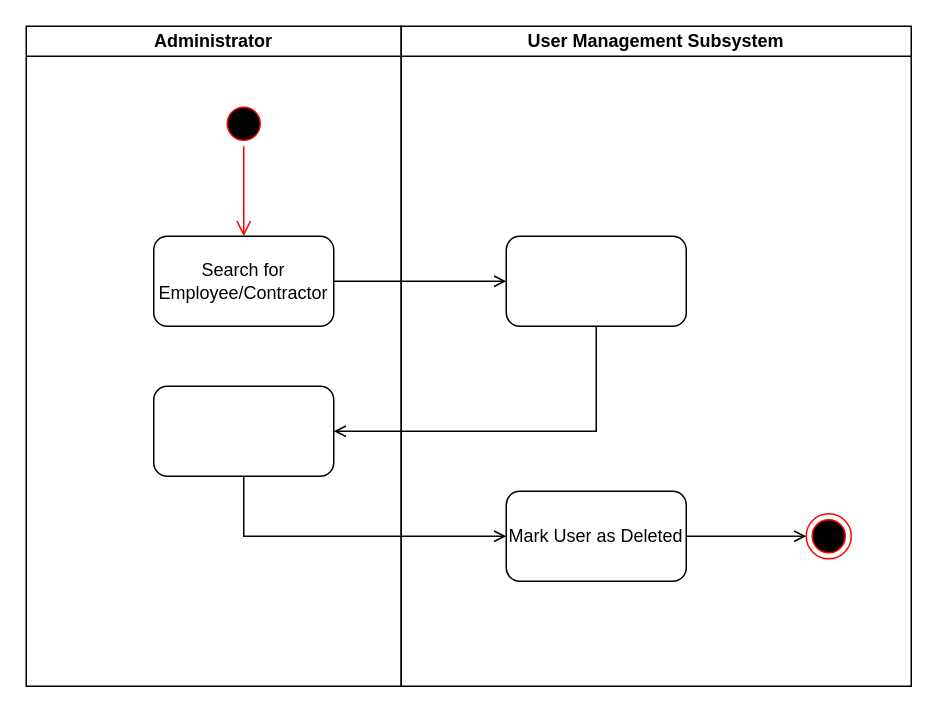
This 938x713 diagram has some shape labels left out. Each missing label, with the centre of its shape:
Delete User: (243,430)
Retrieve Users Information: (595,280)
